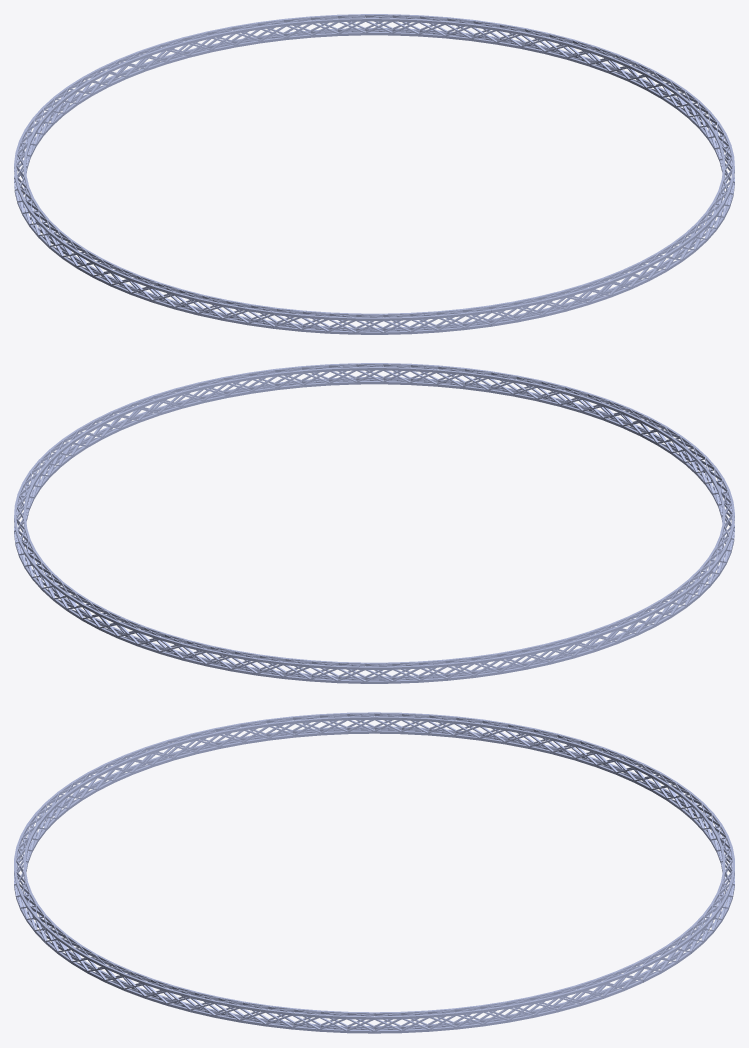
The model's file is MainInterierBalkaHorizont.fbx.
3 renders of one model, top to bottom at view 1: azimuth 30°, elevation 25°; view 2: azimuth 150°, elevation 25°; view 3: azimuth 270°, elevation 25°, orthographic.
Parts seen in each view (by area): view 1: balkaHorizont; view 2: balkaHorizont; view 3: balkaHorizont.
Boxes of the visible parts, left/top/right/bottom form: balkaHorizont: left=14, top=14, right=734, bottom=334; balkaHorizont: left=14, top=363, right=734, bottom=683; balkaHorizont: left=14, top=712, right=734, bottom=1033.
Bounding box in the file's own units: 2937 × 73.24 × 2935.
